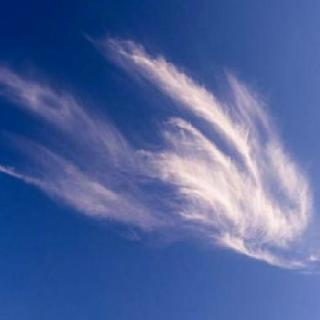Cirrostratus: (0, 25, 320, 270)
